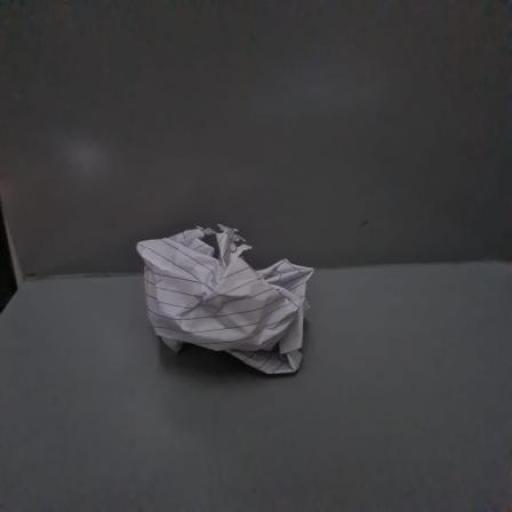paper: (94, 197, 360, 389)
